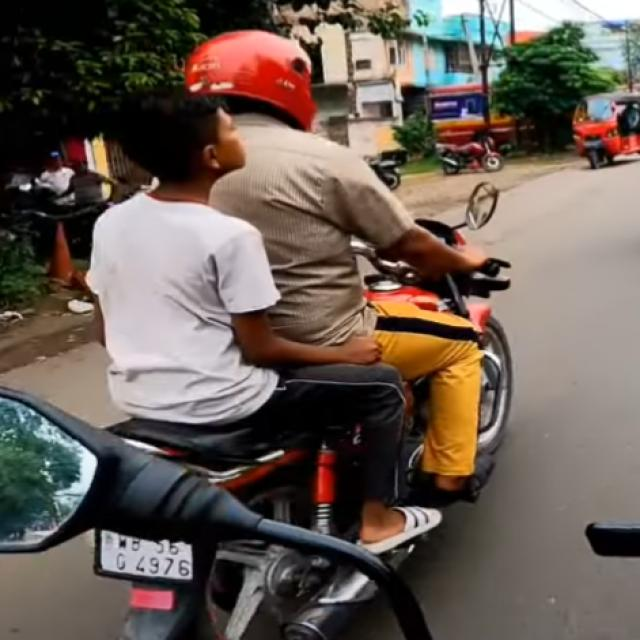WITH_HELMET: (177, 20, 321, 120)
normal: (79, 36, 498, 383)
